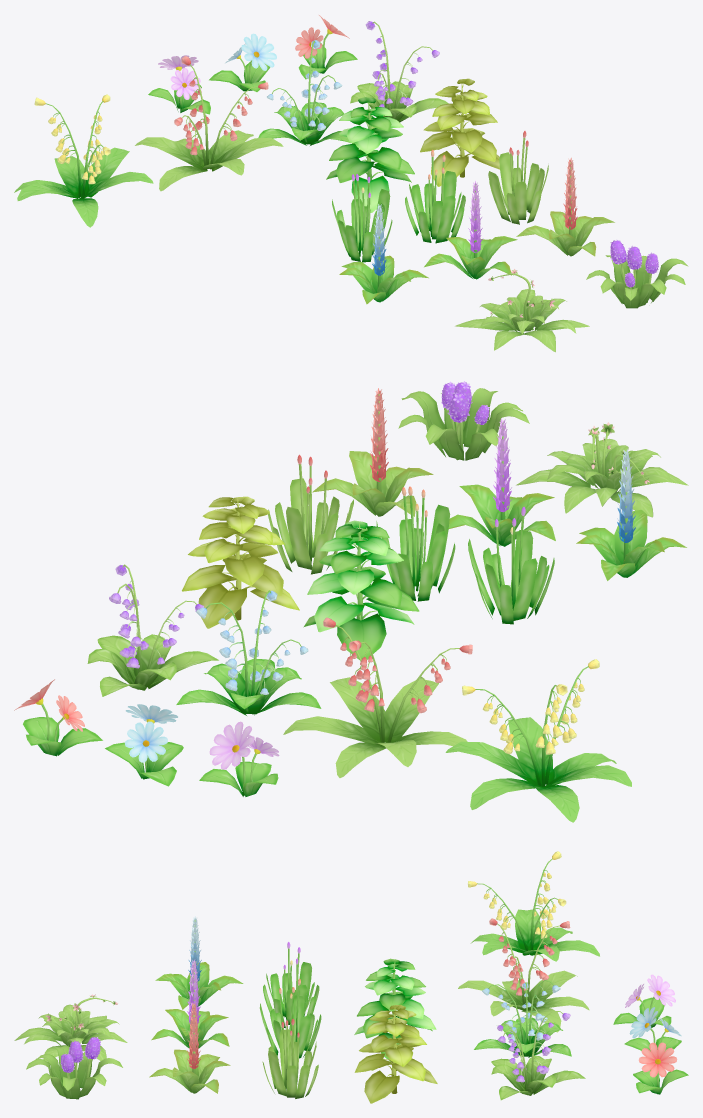
The model's file is flowers_pack_1.glb.
3 views of the same model, one above another, from view 1: azimuth 30°, elevation 25°; view 2: azimuth 150°, elevation 25°; view 3: azimuth 270°, elevation 25° (orthographic). The views are drawn at different scales.
Visible parts, largest first — view 1: Plane.021, Plane.013, Plane.001, Plane.012, Plane.036, Cylinder.003, Plane.030, Plane.019, Plane.022, Plane.156, Cylinder.001, Cylinder.004 (+5 smaller); view 2: Plane.021, Plane.001, Plane.013, Plane.012, Plane.036, Plane.019, Plane.156, Cylinder.003, Plane.031, Plane.022, Plane.030, Cylinder.001 (+5 smaller); view 3: Plane.012, Plane.021, Plane.001, Plane.013, Cylinder.003, Plane.156, Plane.036, Plane.019, Plane.022, Cylinder.001, Plane.031, Cylinder.004 (+5 smaller).
Part boxes in pixels (x1,y1,x2,y2): Plane.021: [14, 94, 153, 227]; Plane.013: [326, 97, 414, 212]; Plane.001: [135, 56, 283, 191]; Plane.012: [420, 78, 499, 186]; Plane.036: [455, 269, 589, 352]; Cylinder.003: [586, 240, 688, 308]; Plane.030: [405, 149, 465, 243]; Plane.019: [258, 40, 354, 145]; Plane.022: [488, 131, 548, 224]; Plane.156: [350, 21, 448, 128]; Cylinder.001: [516, 157, 614, 256]; Cylinder.004: [424, 181, 517, 279]; Plane.021: [445, 659, 631, 822]; Plane.001: [283, 617, 472, 777]; Plane.013: [303, 520, 419, 659]; Plane.012: [182, 496, 299, 628]; Plane.036: [516, 422, 688, 517]; Plane.019: [176, 590, 321, 715]; Plane.156: [87, 564, 218, 696]; Cylinder.003: [398, 381, 529, 460]; Plane.031: [468, 507, 554, 624]; Plane.022: [268, 454, 353, 574]; Plane.030: [376, 486, 455, 601]; Cylinder.001: [312, 388, 433, 516]; Plane.012: [354, 1005, 437, 1103]; Plane.021: [468, 851, 599, 961]; Plane.001: [458, 918, 589, 1032]; Plane.013: [354, 958, 436, 1061]; Cylinder.003: [26, 1037, 122, 1099]; Plane.156: [491, 1011, 585, 1100]; Plane.036: [14, 994, 127, 1060]; Plane.019: [474, 980, 571, 1057]; Plane.022: [262, 1019, 318, 1098]; Cylinder.001: [149, 1003, 230, 1093]; Plane.031: [263, 942, 319, 1028]; Cylinder.004: [151, 959, 229, 1048].
Size of the model in its own units: 8.96 by 1.97 by 13.35.
Materials: 17 (17 with a texture image).
